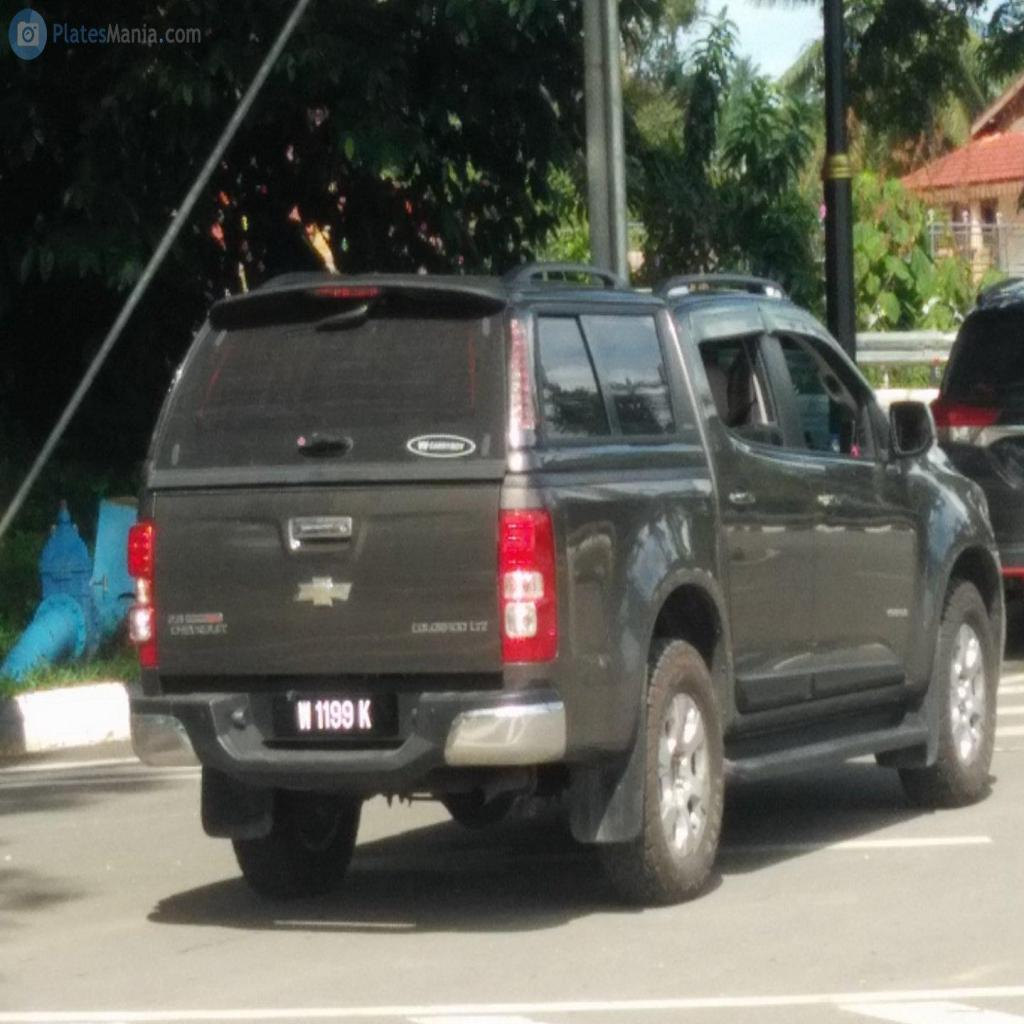car: (129, 264, 1003, 902), (726, 280, 736, 283)
car plate: (273, 692, 396, 739)
